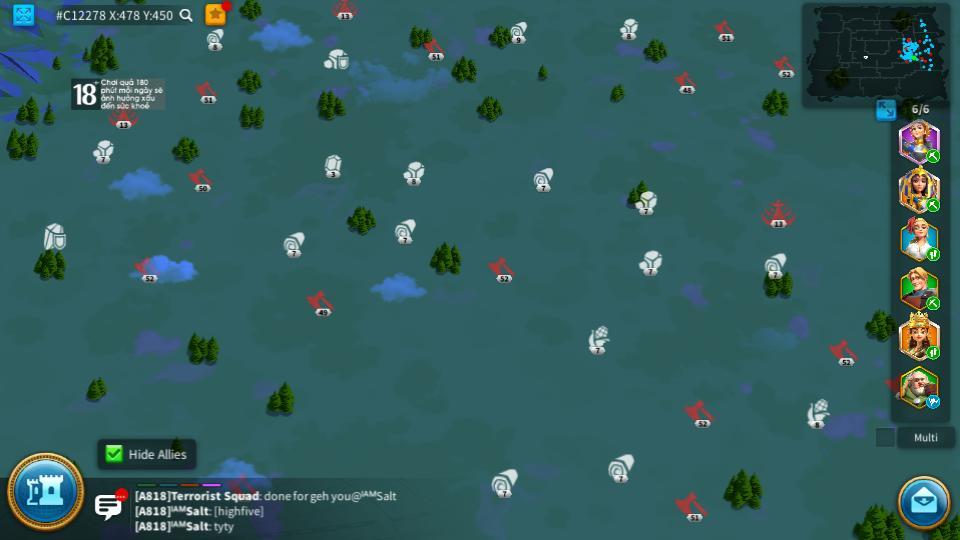gem-z-out: (324, 154, 342, 178)
march_idle: (925, 396, 942, 408)
march_marching: (925, 197, 941, 212), (924, 248, 942, 260), (926, 345, 941, 359), (925, 150, 942, 162), (925, 297, 942, 308)
